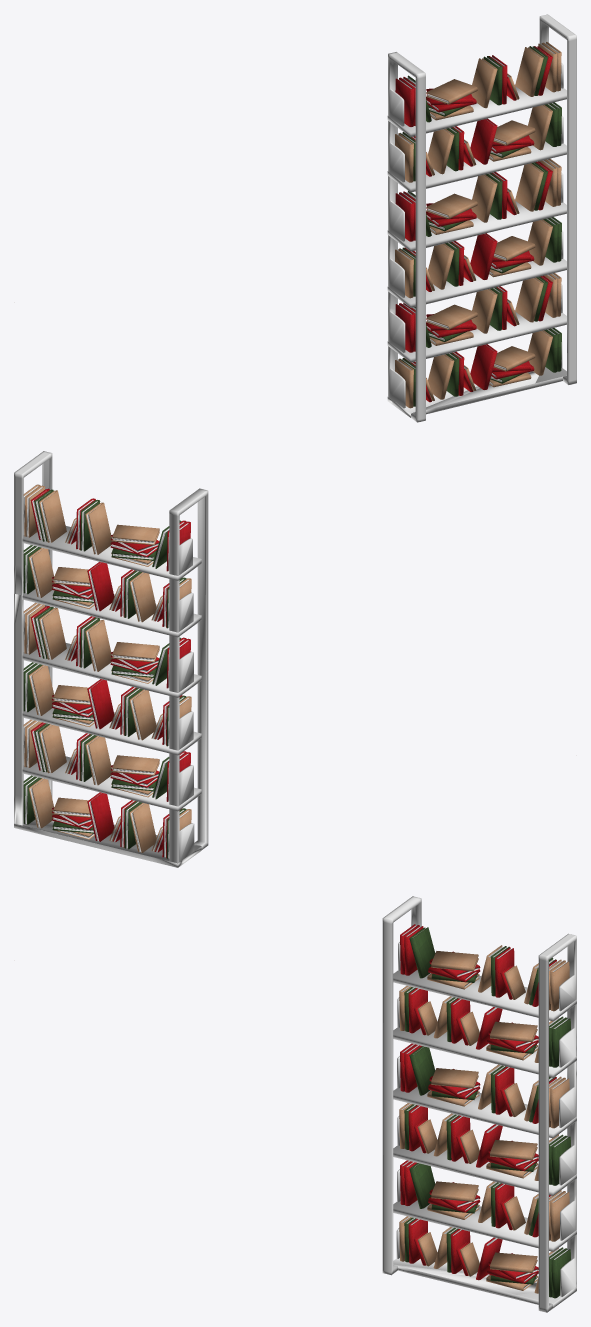
File: libreriaAltaFINAL.fbx
The picture shows the model from 3 angles, top to bottom: view 1: azimuth 30°, elevation 25°; view 2: azimuth 150°, elevation 25°; view 3: azimuth 330°, elevation 25°; orthographic projection. The views are drawn at different scales.
Parts seen in each view (by area): view 1: LibroRojoOK, libro.032, libro.056, libro.094, libro.047, libro.123, libro.087, libro.023, libro.095, libro.064, libro.122, libro.046 (+16 smaller); view 2: LibroRojoOK, libro.032, libro.056, libro.023, libro.064, libro.095, libro.094, libro.046, libro.122, libro.047, libro.087, libro.123 (+10 smaller); view 3: LibroRojoOK, libro.017, libro.070, libro.078, libro.065, libro.109, libro.022, libro.108, libro.033, libro.073, libro.053, libro.025 (+13 smaller).
Part boxes in pixels (x1=…): LibroRojoOK: x1=387, y1=14, x2=576, y2=422; libro.032: x1=515, y1=47, x2=543, y2=96; libro.056: x1=515, y1=163, x2=543, y2=211; libro.094: x1=470, y1=233, x2=497, y2=279; libro.047: x1=470, y1=118, x2=497, y2=164; libro.123: x1=470, y1=344, x2=497, y2=389; libro.087: x1=515, y1=277, x2=543, y2=322; libro.023: x1=471, y1=58, x2=497, y2=108; libro.095: x1=428, y1=243, x2=454, y2=289; libro.064: x1=471, y1=174, x2=497, y2=222; libro.122: x1=428, y1=354, x2=454, y2=399; libro.046: x1=428, y1=129, x2=454, y2=174; LibroRojoOK: x1=14, y1=451, x2=208, y2=867; libro.032: x1=39, y1=490, x2=66, y2=542; libro.056: x1=39, y1=607, x2=66, y2=659; libro.023: x1=85, y1=502, x2=112, y2=554; libro.064: x1=85, y1=620, x2=112, y2=671; libro.095: x1=129, y1=689, x2=156, y2=740; libro.094: x1=87, y1=679, x2=114, y2=729; libro.046: x1=129, y1=572, x2=156, y2=622; libro.122: x1=129, y1=802, x2=156, y2=852; libro.047: x1=87, y1=562, x2=114, y2=611; libro.087: x1=39, y1=724, x2=66, y2=773; libro.123: x1=87, y1=792, x2=114, y2=841; LibroRojoOK: x1=382, y1=896, x2=576, y2=1312; libro.017: x1=409, y1=927, x2=435, y2=978; libro.070: x1=409, y1=1046, x2=435, y2=1095; libro.078: x1=431, y1=1181, x2=478, y2=1201; libro.065: x1=431, y1=1068, x2=478, y2=1088; libro.109: x1=490, y1=1252, x2=537, y2=1272; libro.022: x1=431, y1=951, x2=478, y2=971; libro.108: x1=490, y1=1139, x2=537, y2=1160; libro.033: x1=490, y1=1021, x2=537, y2=1042; libro.073: x1=409, y1=1163, x2=435, y2=1208; libro.053: x1=550, y1=960, x2=569, y2=1011; libro.025: x1=495, y1=947, x2=514, y2=997.
Size of the model in its own units: 623 by 382 by 61.15.
